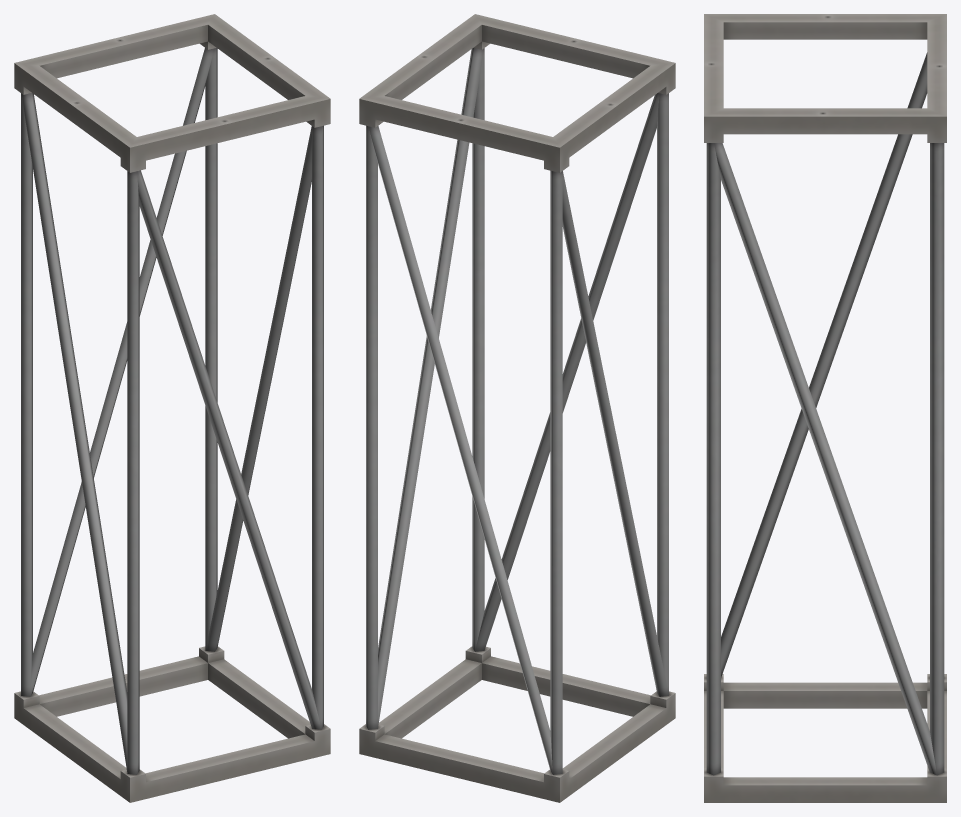
The model's file is Rana_Truss_1.obj.
3 renders of one model, left to right at view 1: azimuth 30°, elevation 25°; view 2: azimuth 150°, elevation 25°; view 3: azimuth 270°, elevation 25°, orthographic. The views are drawn at different scales.
Parts seen in each view (by area): view 1: Rana_Truss_1; view 2: Rana_Truss_1; view 3: Rana_Truss_1.
Part boxes in pixels (x1,y1,x2,y2): Rana_Truss_1: (14, 14, 330, 802); Rana_Truss_1: (359, 14, 675, 802); Rana_Truss_1: (704, 14, 946, 802).
Size of the model in its own units: 0.3125 by 0.975 by 0.3125.
